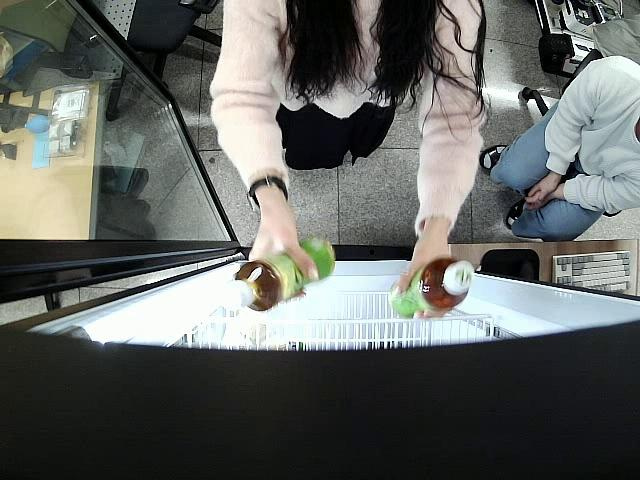00_hand: (247, 218, 319, 303), (390, 240, 455, 321)
19_17cha: (227, 235, 333, 311), (391, 253, 471, 319)
